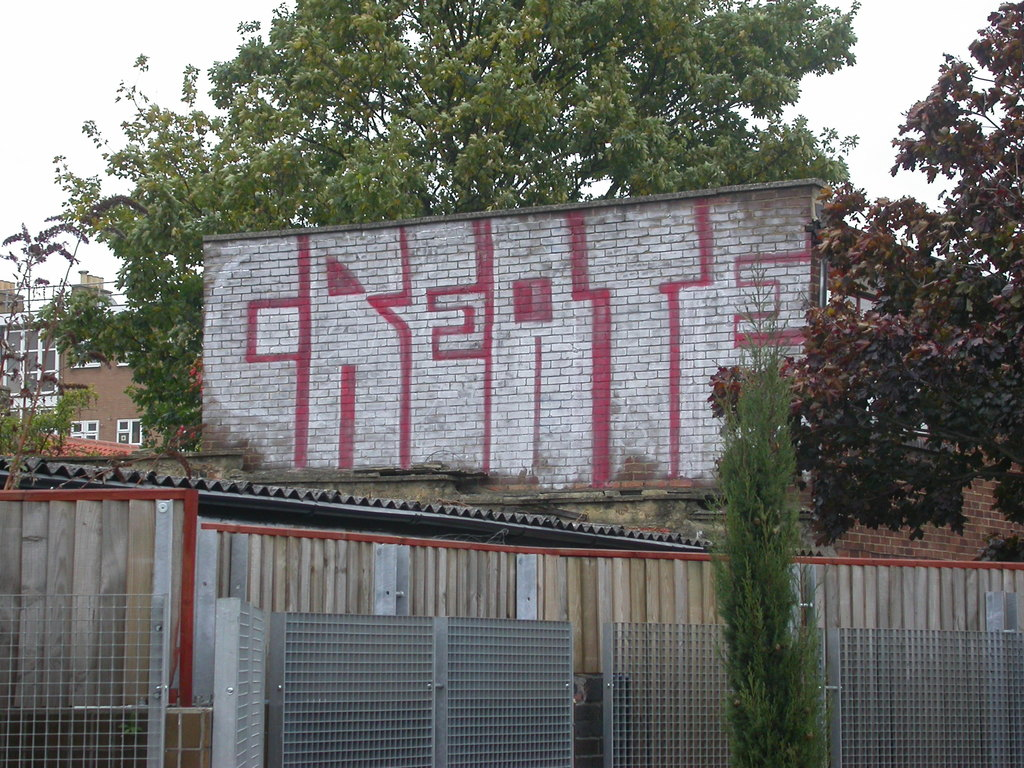Tree: (37, 0, 862, 488), (696, 0, 1023, 556), (1, 169, 168, 488), (704, 312, 826, 736)
